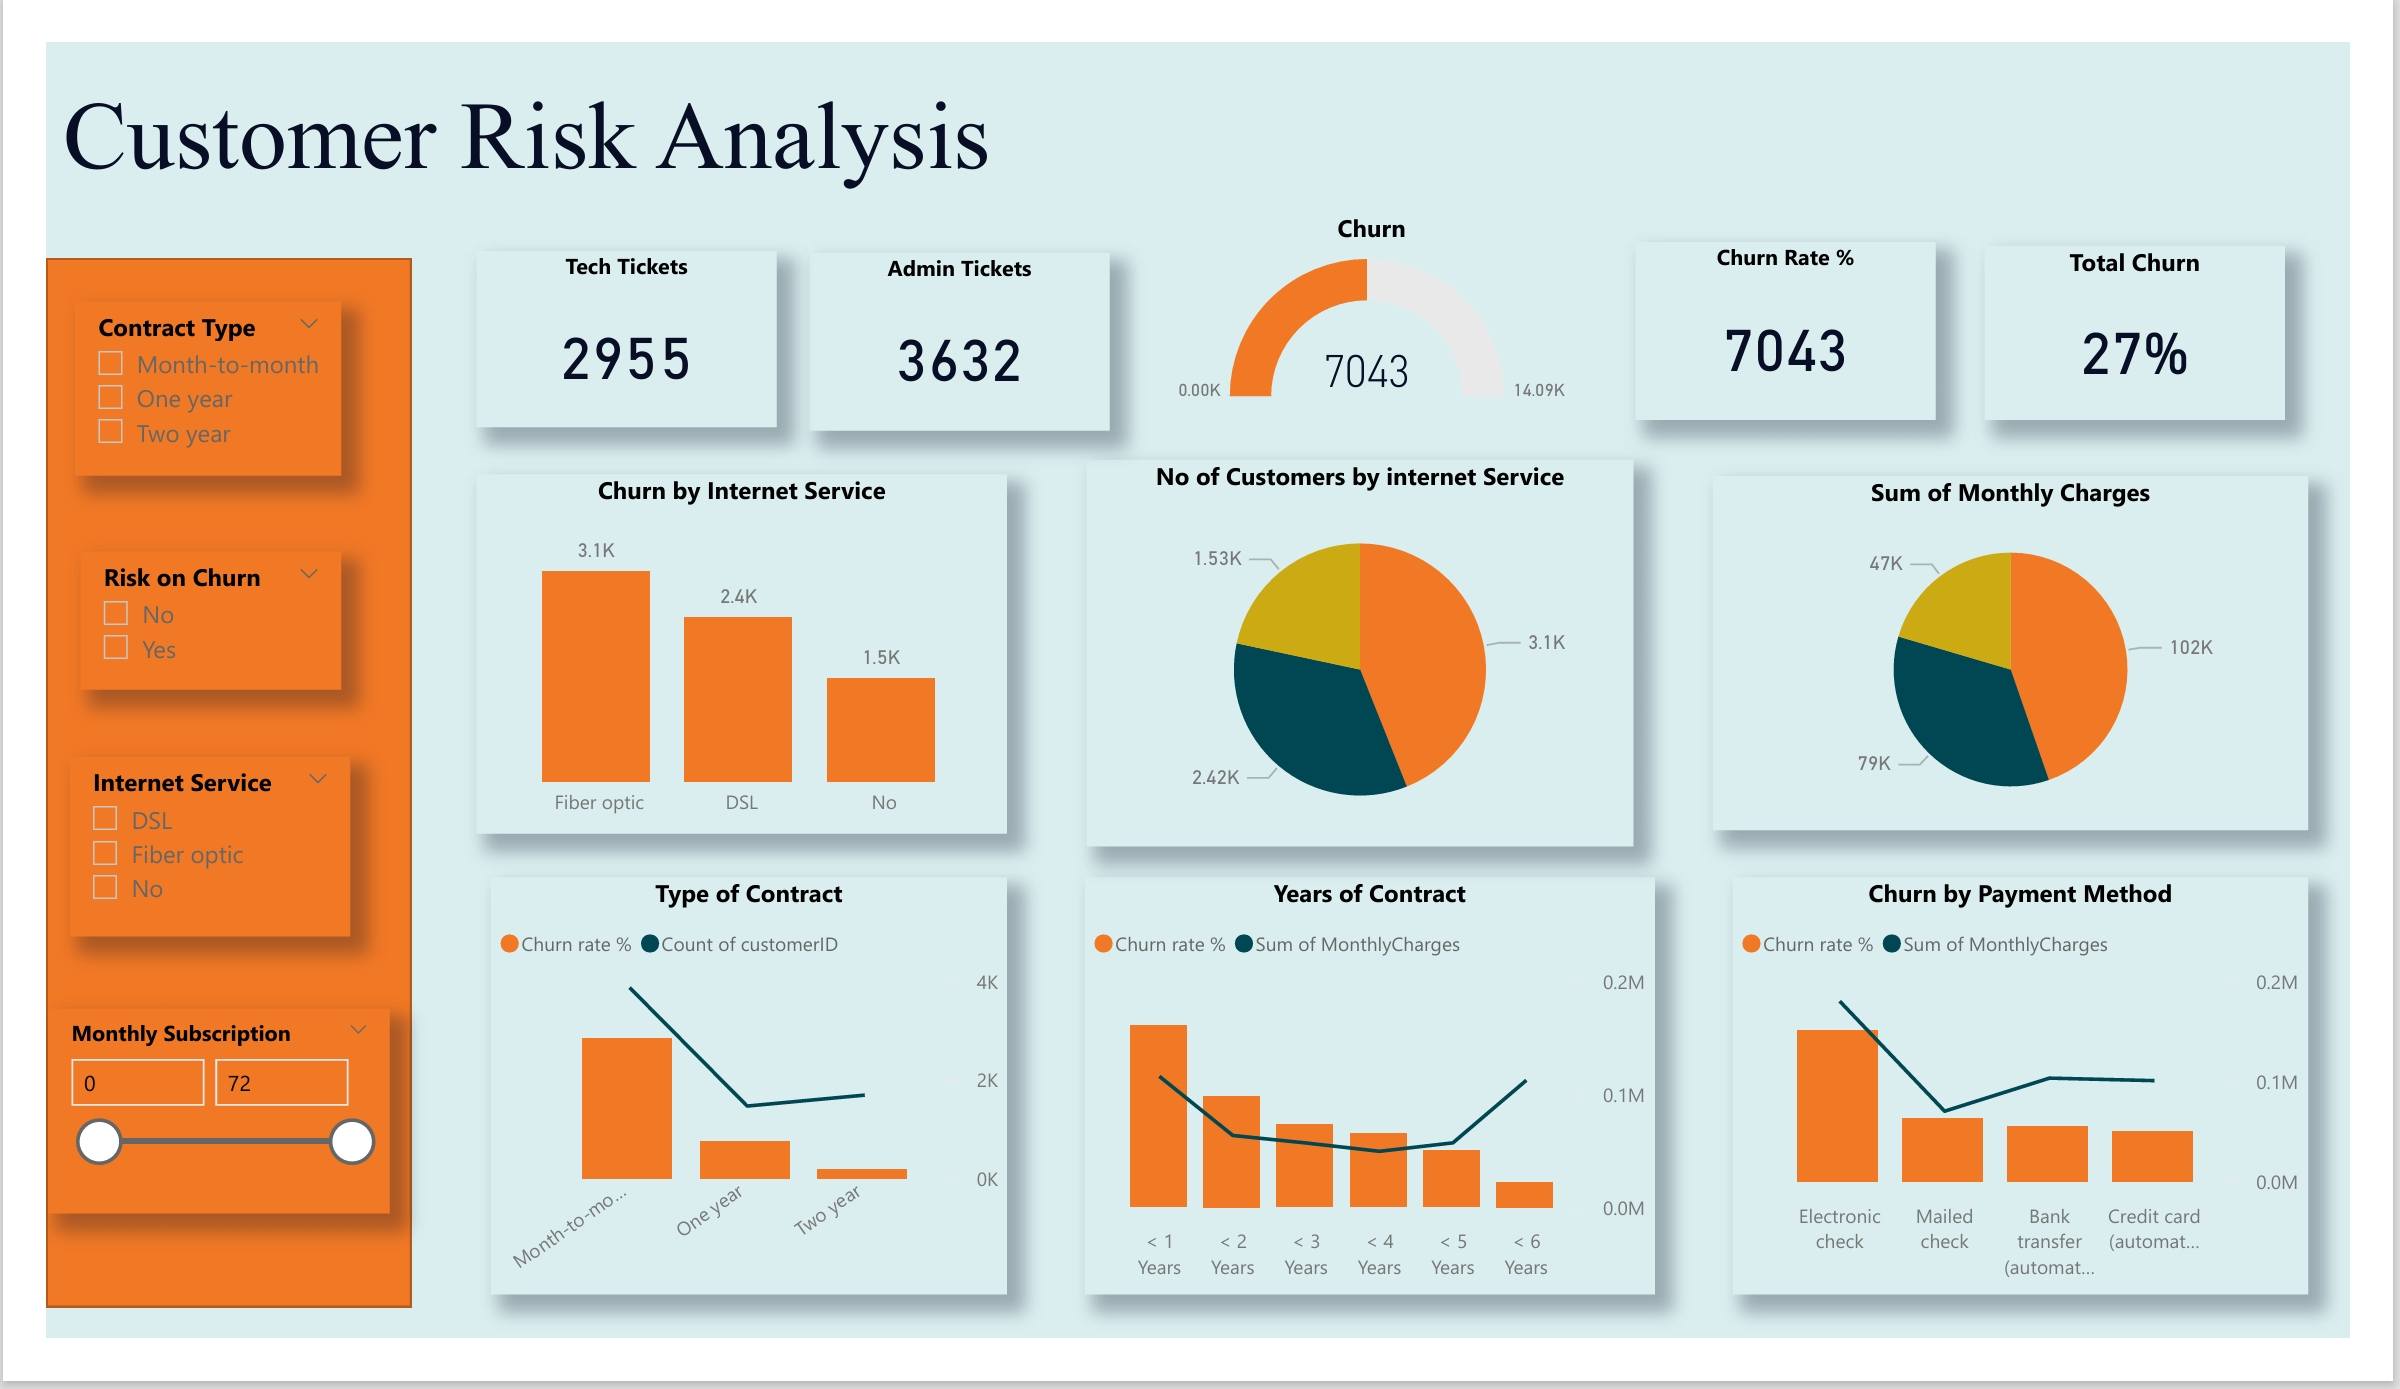

What the dashboard file says about the page in this screenshot:
{"tool":"powerbi","page":{"name":"Customer Risk Analysis","canvas":[1280,720],"ordinal":2},"visuals":[{"type":"textbox","box":[0,15.7,534.3,78.6],"z":0},{"type":"card","title":"Churn Rate %","fields":{"Values":["CountNonNull(01 Churn-Dataset.Churn)"]},"box":[882.9,111.4,167.1,98.6],"z":1000},{"type":"card","title":"Total Churn ","fields":{"Values":["01 Churn-Dataset.Churn rate %"]},"box":[1077.1,112.9,167.1,97.1],"z":2000},{"type":"gauge","title":"Churn","fields":{"Y":["CountNonNull(01 Churn-Dataset.customerID)"]},"box":[618.6,94.3,235.7,115.7],"z":3000},{"type":"card","title":"Admin Tickets","fields":{"Values":["Sum(01 Churn-Dataset.numAdminTickets)"]},"box":[424.3,117.1,167.1,98.6],"z":4000},{"type":"card","title":"Tech Tickets","fields":{"Values":["Sum(01 Churn-Dataset.numTechTickets)"]},"box":[238.6,115.7,167.1,98.6],"z":5000},{"type":"shape","box":[0,120,202.9,582.9],"z":6000},{"type":"slicer","fields":{"Values":["01 Churn-Dataset.Churn"]},"box":[18.6,282.9,145.7,77.1],"z":7000},{"type":"slicer","fields":{"Values":["01 Churn-Dataset.InternetService"]},"box":[12.9,397.1,155.7,100],"z":8000},{"type":"slicer","fields":{"Values":["01 Churn-Dataset.Contract"]},"box":[15.7,144.3,148.6,97.1],"z":9000},{"type":"slicer","fields":{"Values":["01 Churn-Dataset.tenure"]},"box":[1.4,537.1,190,114.3],"z":10000},{"type":"clusteredColumnChart","title":" Churn by Internet Service","fields":{"Category":["01 Churn-Dataset.InternetService"],"Y":["CountNonNull(01 Churn-Dataset.Churn)"]},"box":[238.6,239.5,295.7,200],"z":11000},{"type":"pieChart","title":"No of Customers by internet Service","fields":{"Category":["01 Churn-Dataset.InternetService"],"Y":["CountNonNull(01 Churn-Dataset.customerID)"]},"box":[577.9,232.4,304.3,214.3],"z":12000},{"type":"pieChart","title":"Sum of Monthly Charges","fields":{"Y":["Sum(01 Churn-Dataset.tenure)"],"Category":["01 Churn-Dataset.InternetService"]},"box":[925.7,241,331.4,197.1],"z":13000},{"type":"lineStackedColumnComboChart","title":"Type of Contract","fields":{"Category":["01 Churn-Dataset.Contract"],"Y":["01 Churn-Dataset.Churn rate %"],"Y2":["CountNonNull(01 Churn-Dataset.customerID)"]},"box":[247.1,464.3,287.1,231.4],"z":14000},{"type":"lineStackedColumnComboChart","title":"Years of Contract","fields":{"Category":["01 Churn-Dataset.Subscription"],"Y":["01 Churn-Dataset.Churn rate %"],"Y2":["Sum(01 Churn-Dataset.MonthlyCharges)"]},"box":[577.1,464.3,317.1,231.4],"z":15000},{"type":"lineStackedColumnComboChart","title":"Churn by Payment Method","fields":{"Category":["01 Churn-Dataset.PaymentMethod"],"Y":["01 Churn-Dataset.Churn rate %"],"Y2":["Sum(01 Churn-Dataset.MonthlyCharges)"]},"box":[937.1,464.3,320,231.4],"z":16000}]}

Visuals, with their boxes in screenshot pixels (x1, y1, x2, y2), scaled from the page's 1280x720 canvas onto the 2400x1389 screenshot:
textbox: x1=0 y1=30 x2=1002 y2=182
"Churn Rate %" card: x1=1655 y1=215 x2=1969 y2=405
"Total Churn " card: x1=2020 y1=218 x2=2333 y2=405
"Churn" gauge: x1=1160 y1=182 x2=1602 y2=405
"Admin Tickets" card: x1=796 y1=226 x2=1109 y2=416
"Tech Tickets" card: x1=447 y1=223 x2=761 y2=413
shape: x1=0 y1=232 x2=380 y2=1356
slicer - 01 Churn-Dataset.Churn: x1=35 y1=546 x2=308 y2=694
slicer - 01 Churn-Dataset.InternetService: x1=24 y1=766 x2=316 y2=959
slicer - 01 Churn-Dataset.Contract: x1=29 y1=278 x2=308 y2=466
slicer - 01 Churn-Dataset.tenure: x1=3 y1=1036 x2=359 y2=1257
" Churn by Internet Service" clusteredColumnChart: x1=447 y1=462 x2=1002 y2=848
"No of Customers by internet Service" pieChart: x1=1084 y1=448 x2=1654 y2=862
"Sum of Monthly Charges" pieChart: x1=1736 y1=465 x2=2357 y2=845
"Type of Contract" lineStackedColumnComboChart: x1=463 y1=896 x2=1002 y2=1342
"Years of Contract" lineStackedColumnComboChart: x1=1082 y1=896 x2=1677 y2=1342
"Churn by Payment Method" lineStackedColumnComboChart: x1=1757 y1=896 x2=2357 y2=1342
